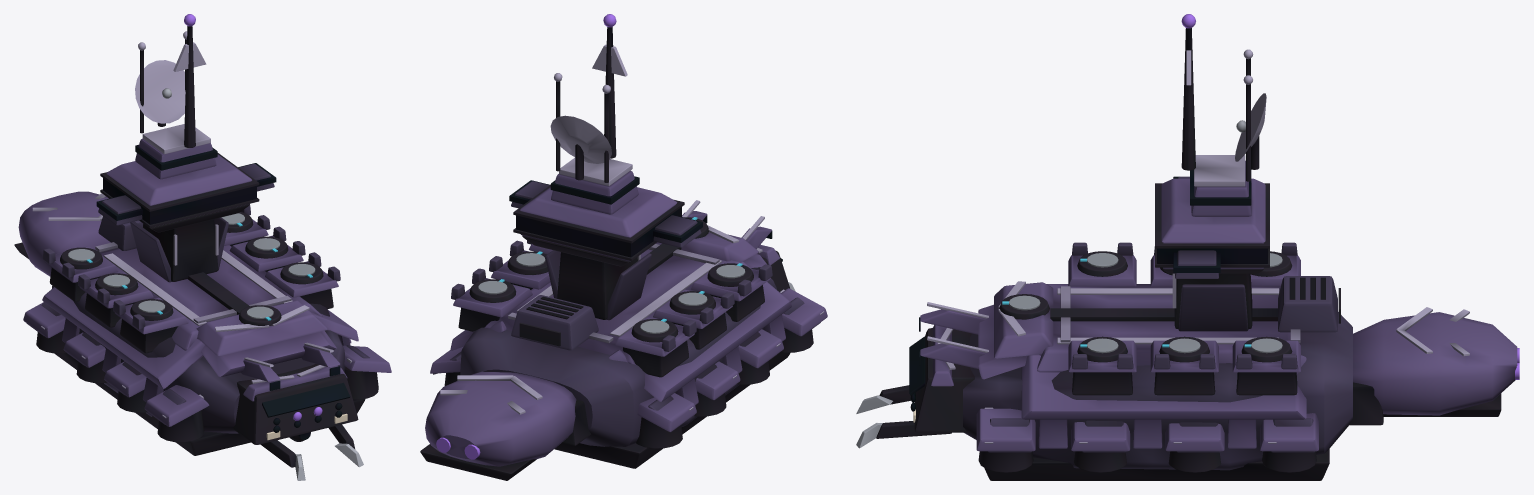
File: ex_strider_12.glb
3 renders of one model, left to right at view 1: azimuth 30°, elevation 25°; view 2: azimuth 150°, elevation 25°; view 3: azimuth 270°, elevation 25°, orthographic. The views are drawn at different scales.
Parts seen in each view (by area): view 1: body; view 2: body; view 3: body.
Boxes of the visible parts, x1,y1,x2,y2 form: body: [14, 14, 391, 480]; body: [420, 14, 827, 480]; body: [856, 14, 1519, 480].
Bounding box in the file's own units: 9 × 13.88 × 19.82.
